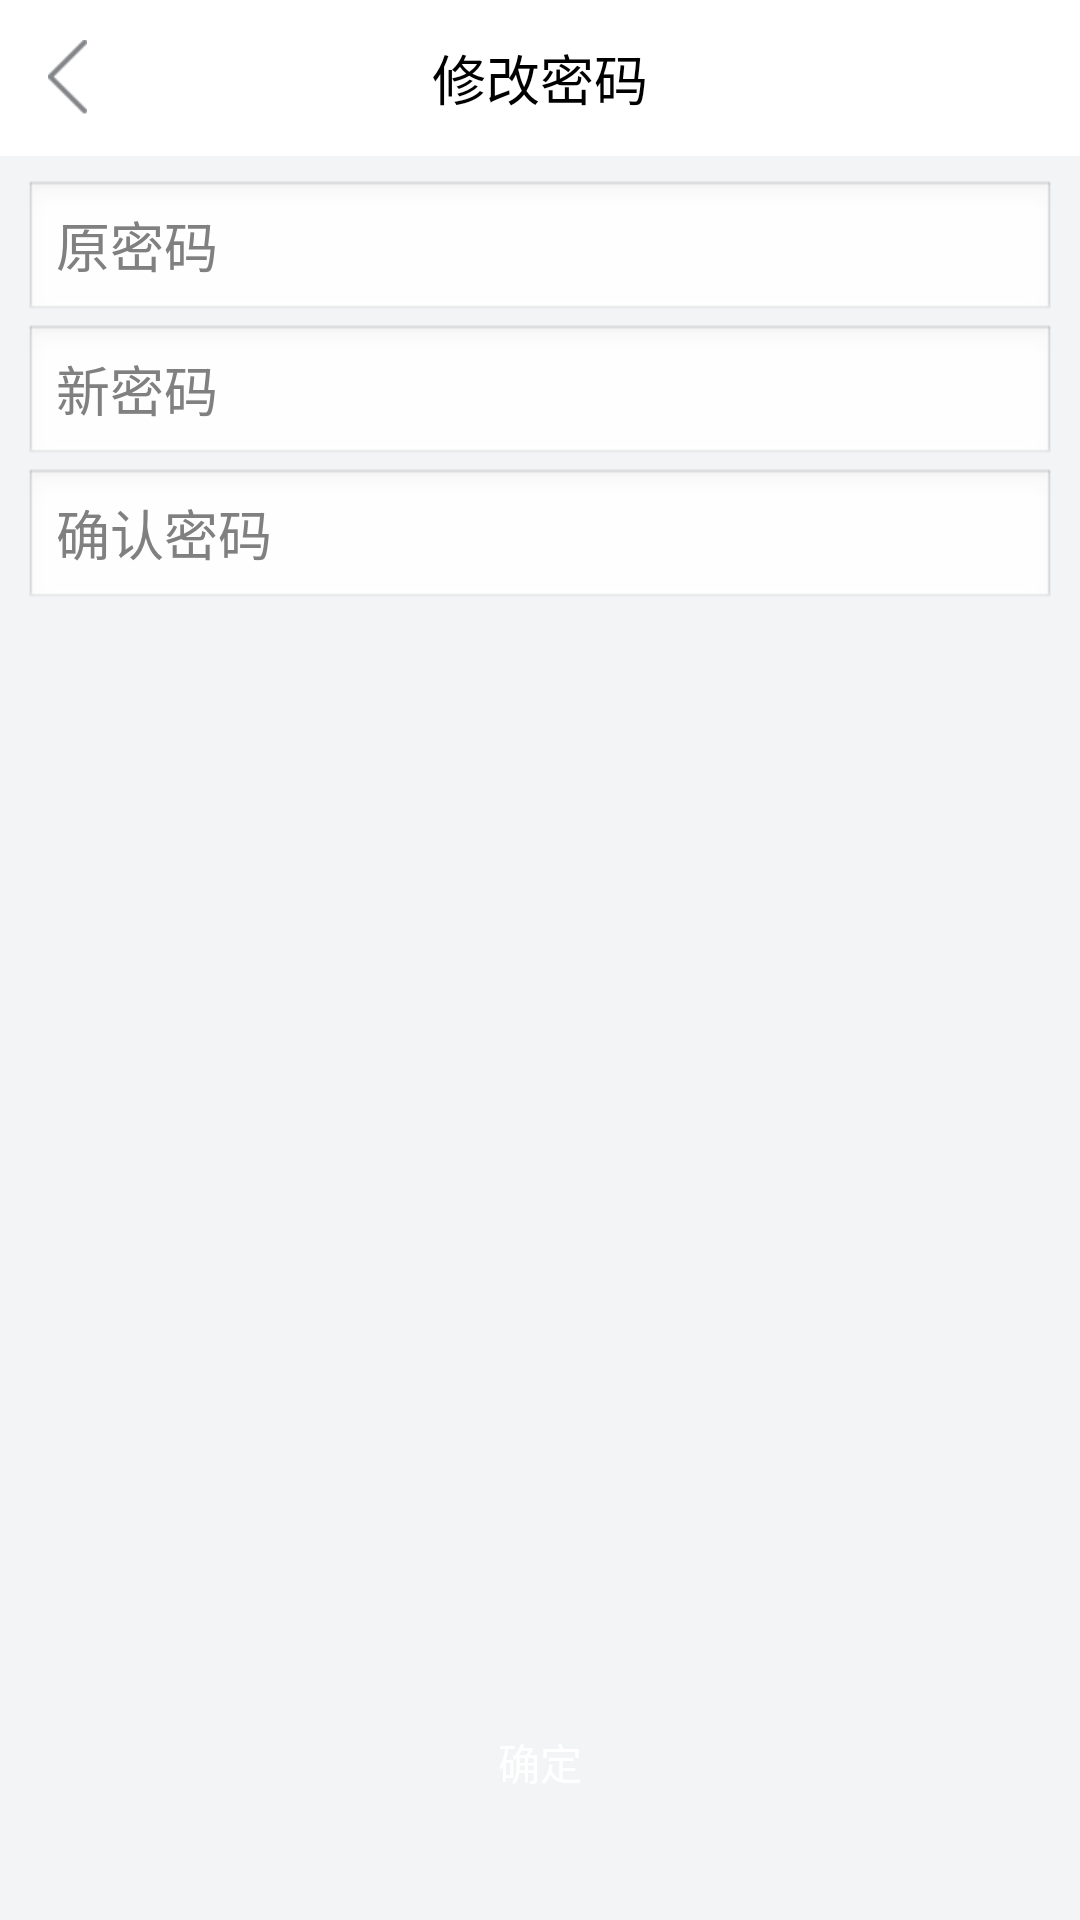

Where to tap for icons on this 1080px×1920px app screen, as (x,y):
back: (67,77)
